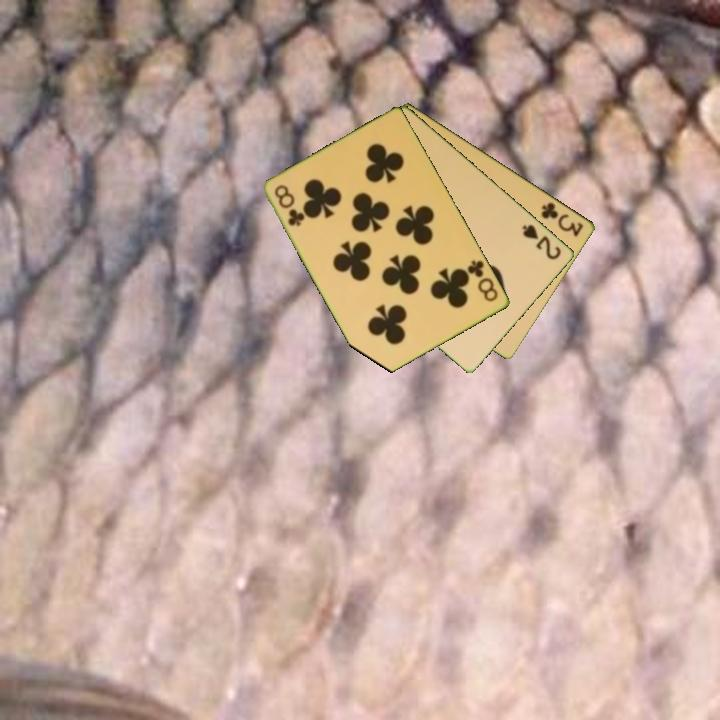2s: (518, 221, 564, 263)
3c: (538, 198, 587, 239)
8c: (464, 257, 501, 305), (271, 181, 308, 229)
